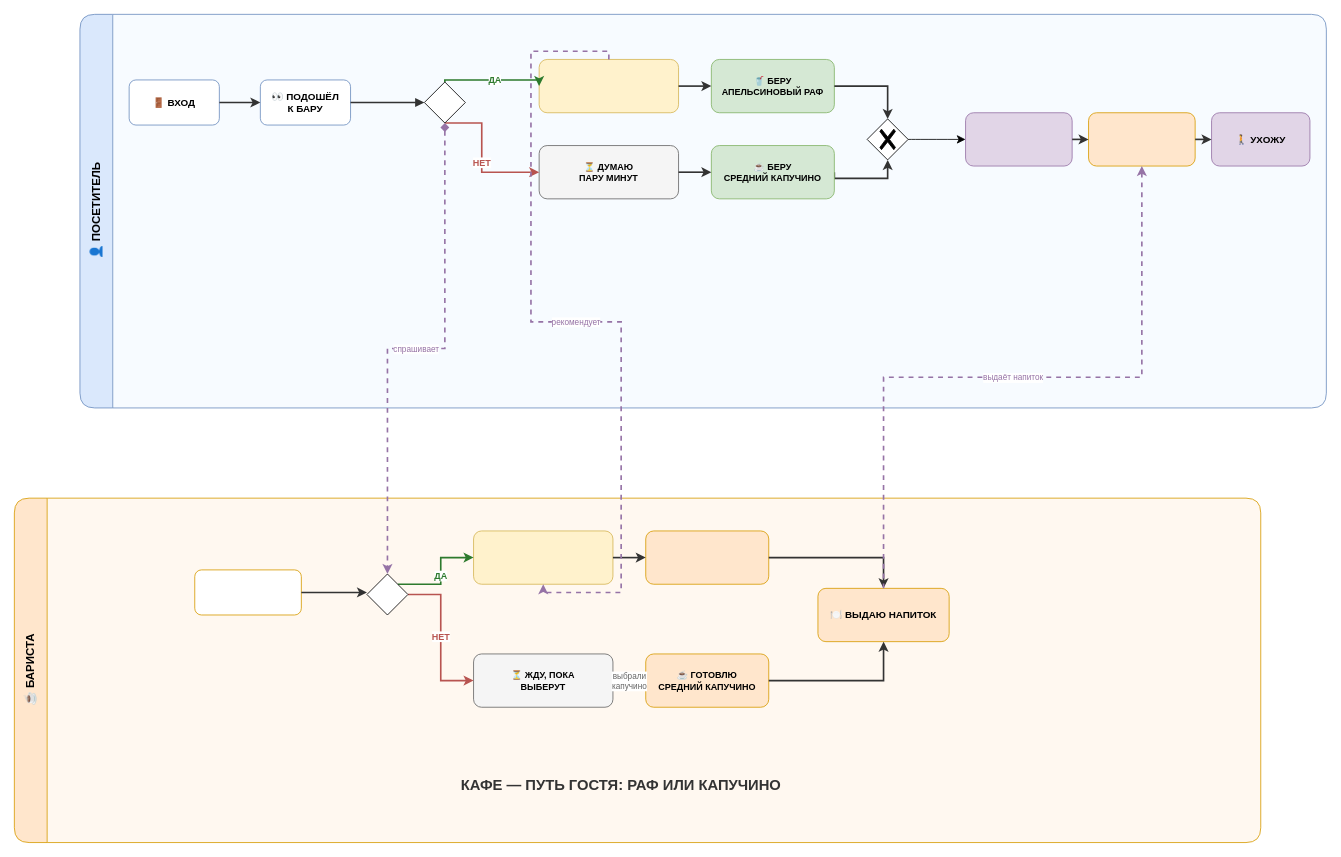
Image size: 1341x857. Some labels were removed from this diagram. The box of each missing label's shape, as (x1, y1, x2, y2) in pixels:
☕ ПОЛУЧАЮ НАПИТОК: (1088, 112, 1195, 166)
👋 ПРИВЕТСТВУЮ: (194, 569, 301, 615)
💡 БАРИСТА РЕКОМЕНДУЕТ: «АПЕЛЬСИНОВЫЙ РАФ»: (538, 59, 679, 113)
💡 РЕКОМЕНДУЮ: «АПЕЛЬСИНОВЫЙ РАФ»: (473, 530, 613, 584)
💳 ОПЛАЧИВАЮ: (965, 112, 1072, 166)
🥤 ГОТОВЛЮ АПЕЛЬСИНОВЫЙ РАФ: (645, 530, 769, 584)
